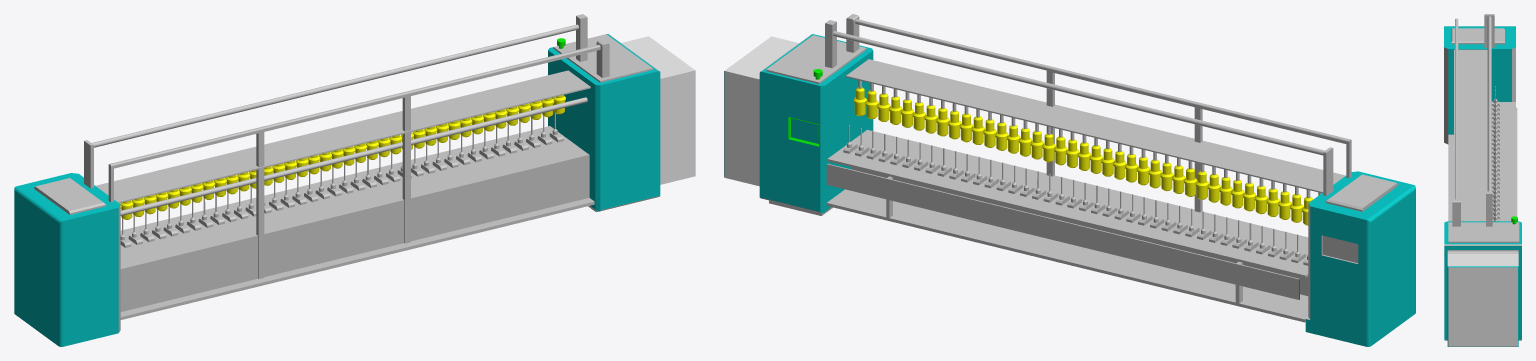
The model's file is 洗砂机01.FBX.
The picture shows the model from 3 angles, left to right: view 1: azimuth 30°, elevation 25°; view 2: azimuth 150°, elevation 25°; view 3: azimuth 270°, elevation 25°; orthographic projection. The views are drawn at different scales.
Visible parts, largest first — view 1: *SOL458; view 2: *SOL458; view 3: *SOL458.
Boxes of the visible parts, x1,y1,x2,y2 form: *SOL458: (14,14,695,346); *SOL458: (724,14,1415,346); *SOL458: (1444,14,1521,346).
Size of the model in its own units: 79.53 by 20.97 by 11.06.
